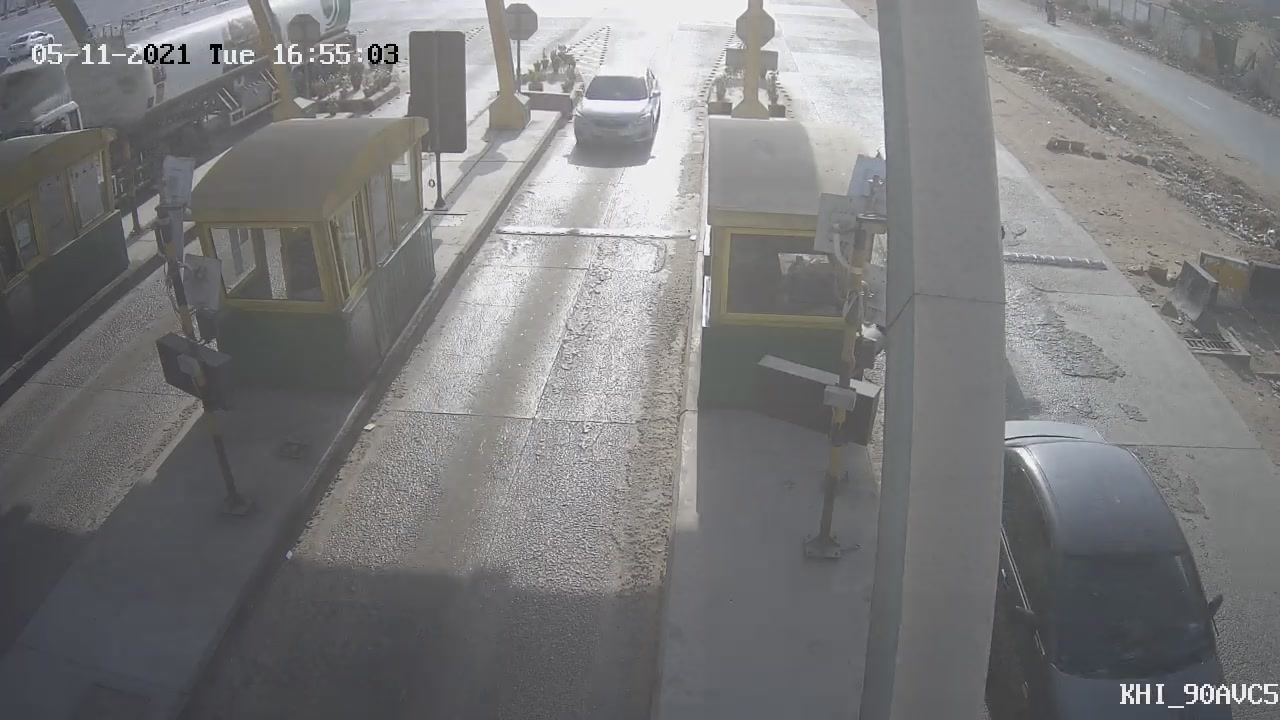F1: (553, 49, 670, 172)
